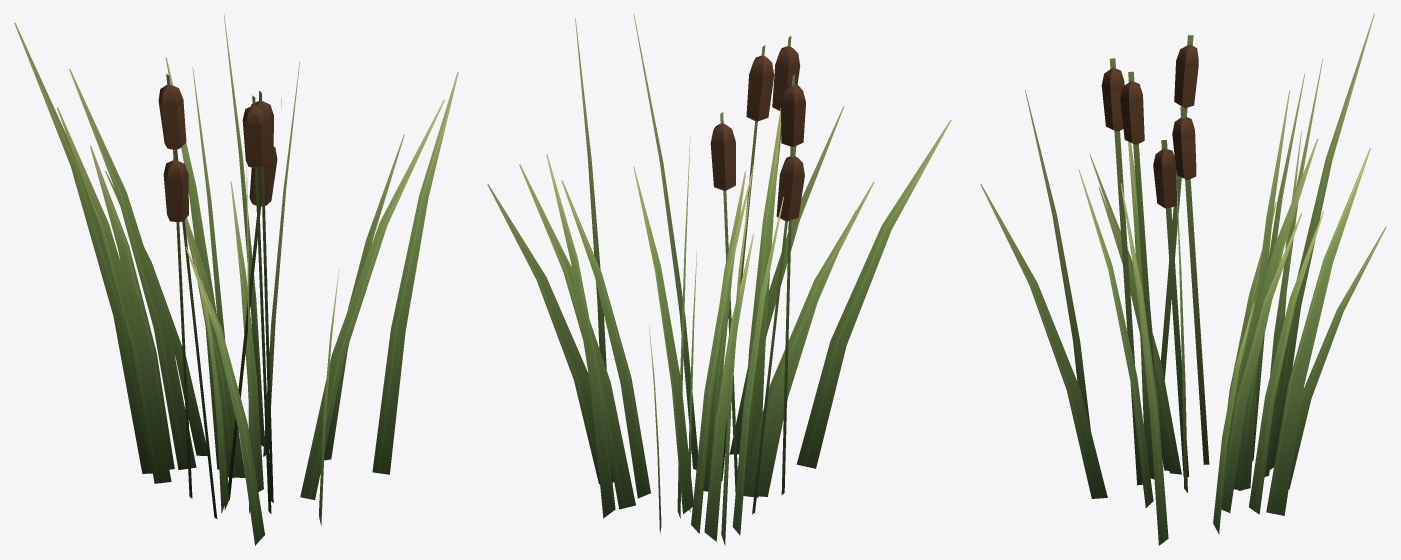
Rendered from reeds_clump.glb.
3 views of the same model, side by side, from view 1: azimuth 30°, elevation 25°; view 2: azimuth 150°, elevation 25°; view 3: azimuth 270°, elevation 25° (orthographic). The views are drawn at different scales.
Parts seen in each view (by area): view 1: reeds_clump; view 2: reeds_clump; view 3: reeds_clump.
Boxes of the visible parts, left/top/right/bottom form: reeds_clump: left=14, top=14, right=458, bottom=545; reeds_clump: left=487, top=14, right=951, bottom=545; reeds_clump: left=980, top=14, right=1386, bottom=545.
Bounding box in the file's own units: 1.19 × 1.46 × 1.29.
1 material, 1 textured.
